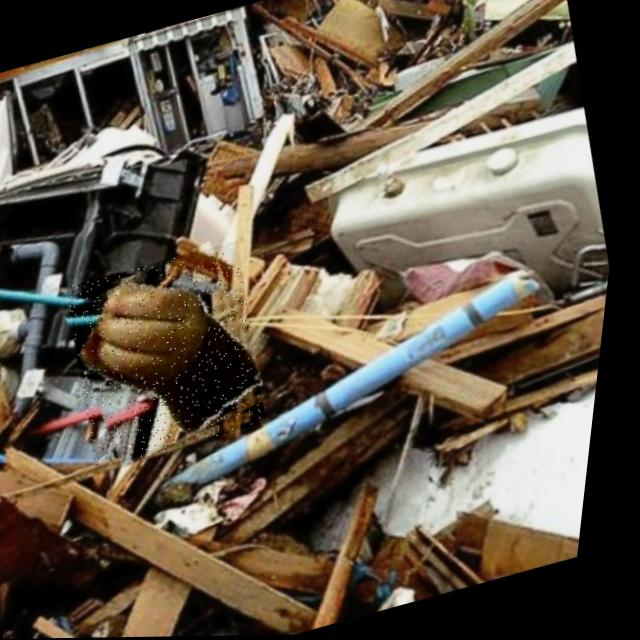Person in Rubble: (57, 240, 292, 470)
